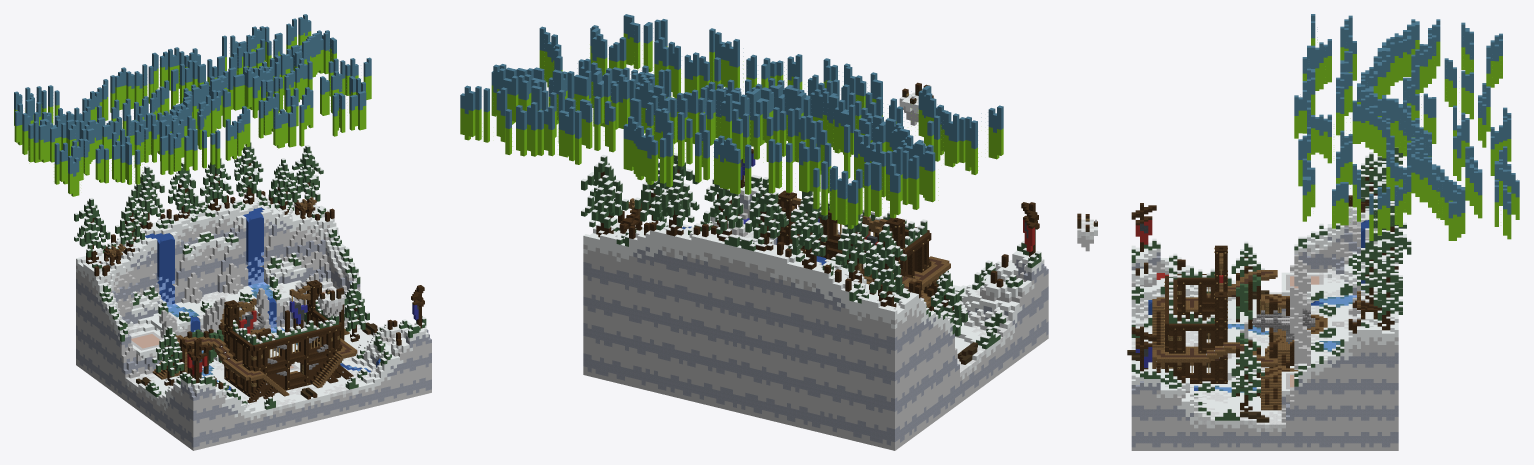
The model's file is minecraft.obj.
The picture shows the model from 3 angles, left to right: view 1: azimuth 30°, elevation 25°; view 2: azimuth 150°, elevation 25°; view 3: azimuth 270°, elevation 25°; orthographic projection. The views are drawn at different scales.
Size of the model in its own units: 103 by 74 by 106.
